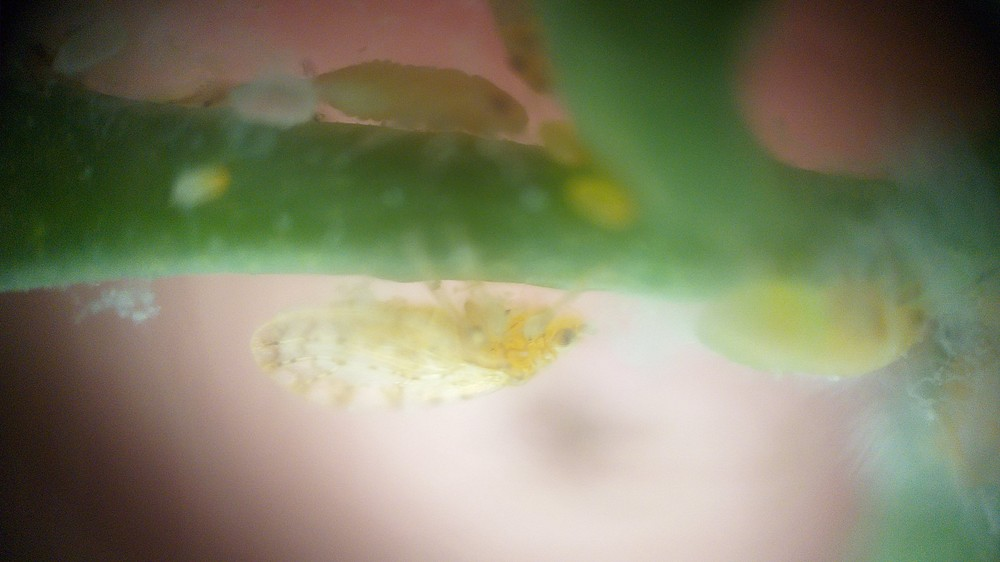Mosca Blanca: (252, 264, 619, 442)
